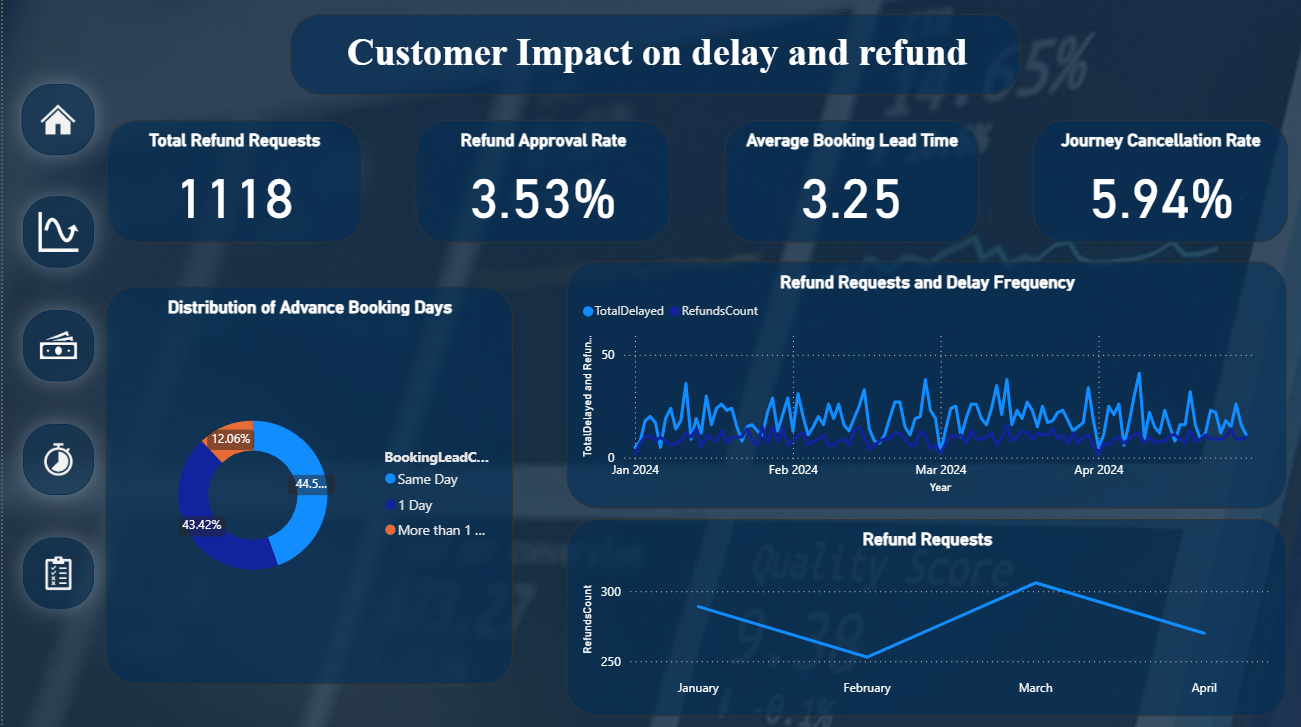

The dashboard page shown, as its layout file describes it:
{"tool":"powerbi","page":{"name":" Customer Impact on delay and refund","canvas":[1280,720],"ordinal":3},"visuals":[{"type":"lineChart","title":"Refund Requests ","fields":{"Y":["_measure.RefundsCount"],"Category":["Calendar.Date.Variation.Date Hierarchy.Month"]},"box":[553.5,515.1,706.8,193.2],"z":0},{"type":"textbox","title":" Customer Impact on delay and refund","box":[282.5,19.6,716.6,79.5],"z":1000},{"type":"card","title":"Average Booking Lead Time","fields":{"Values":["_measure.AvgDelay_Refunded"]},"box":[708,123.7,250,120],"z":2000},{"type":"card","title":"Refund Approval Rate","fields":{"Values":["_measure.RefundRate"]},"box":[404.8,123.7,250,120],"z":3000},{"type":"card","title":"Total Refund Requests","fields":{"Values":["_measure.RefundsCount"]},"box":[101.5,123.7,250,120],"z":4000},{"type":"lineChart","title":"Refund Requests and Delay Frequency","fields":{"Category":["Calendar.Date.Variation.Date Hierarchy.Year","Calendar.Date.Variation.Date Hierarchy.Quarter","Calendar.Date.Variation.Date Hierarchy.Month","Calendar.Date.Variation.Date Hierarchy.Day"],"Y":["_measure.TotalDelayed","_measure.RefundsCount"]},"box":[553.5,263.2,706.8,242.1],"z":5000},{"type":"donutChart","title":"Distribution of Advance Booking Days","fields":{"Category":["Ticket Table.BookingLeadCategory"],"Y":["CountNonNull(Ticket Table.Transaction ID)"]},"box":[101,287.6,399.9,390.1],"z":6000},{"type":"card","title":"Journey Cancellation Rate","fields":{"Values":["_measure.CancelRate"]},"box":[1011.3,123.7,250,120],"z":7000},{"type":"image","box":[19.3,199.3,69.7,69.7],"z":8000},{"type":"image","box":[19.3,310.6,69.7,69.7],"z":9000},{"type":"image","box":[19.3,533.2,69.7,69.7],"z":10000},{"type":"image","box":[18.7,88,70.9,69.7],"z":11000},{"type":"image","box":[19.3,421.9,69.7,69.7],"z":12000}]}

Visuals, with their boxes in screenshot pixels (x1, y1, x2, y2), scaled from the page's 1280x720 canvas onto the 1301x727 screenshot:
"Refund Requests " lineChart: <bbox>563, 520, 1281, 715</bbox>
" Customer Impact on delay and refund" textbox: <bbox>287, 20, 1015, 100</bbox>
"Average Booking Lead Time" card: <bbox>720, 125, 974, 246</bbox>
"Refund Approval Rate" card: <bbox>411, 125, 666, 246</bbox>
"Total Refund Requests" card: <bbox>103, 125, 357, 246</bbox>
"Refund Requests and Delay Frequency" lineChart: <bbox>563, 266, 1281, 510</bbox>
"Distribution of Advance Booking Days" donutChart: <bbox>103, 290, 509, 684</bbox>
"Journey Cancellation Rate" card: <bbox>1028, 125, 1282, 246</bbox>
image: <bbox>20, 201, 90, 272</bbox>
image: <bbox>20, 314, 90, 384</bbox>
image: <bbox>20, 538, 90, 609</bbox>
image: <bbox>19, 89, 91, 159</bbox>
image: <bbox>20, 426, 90, 496</bbox>
